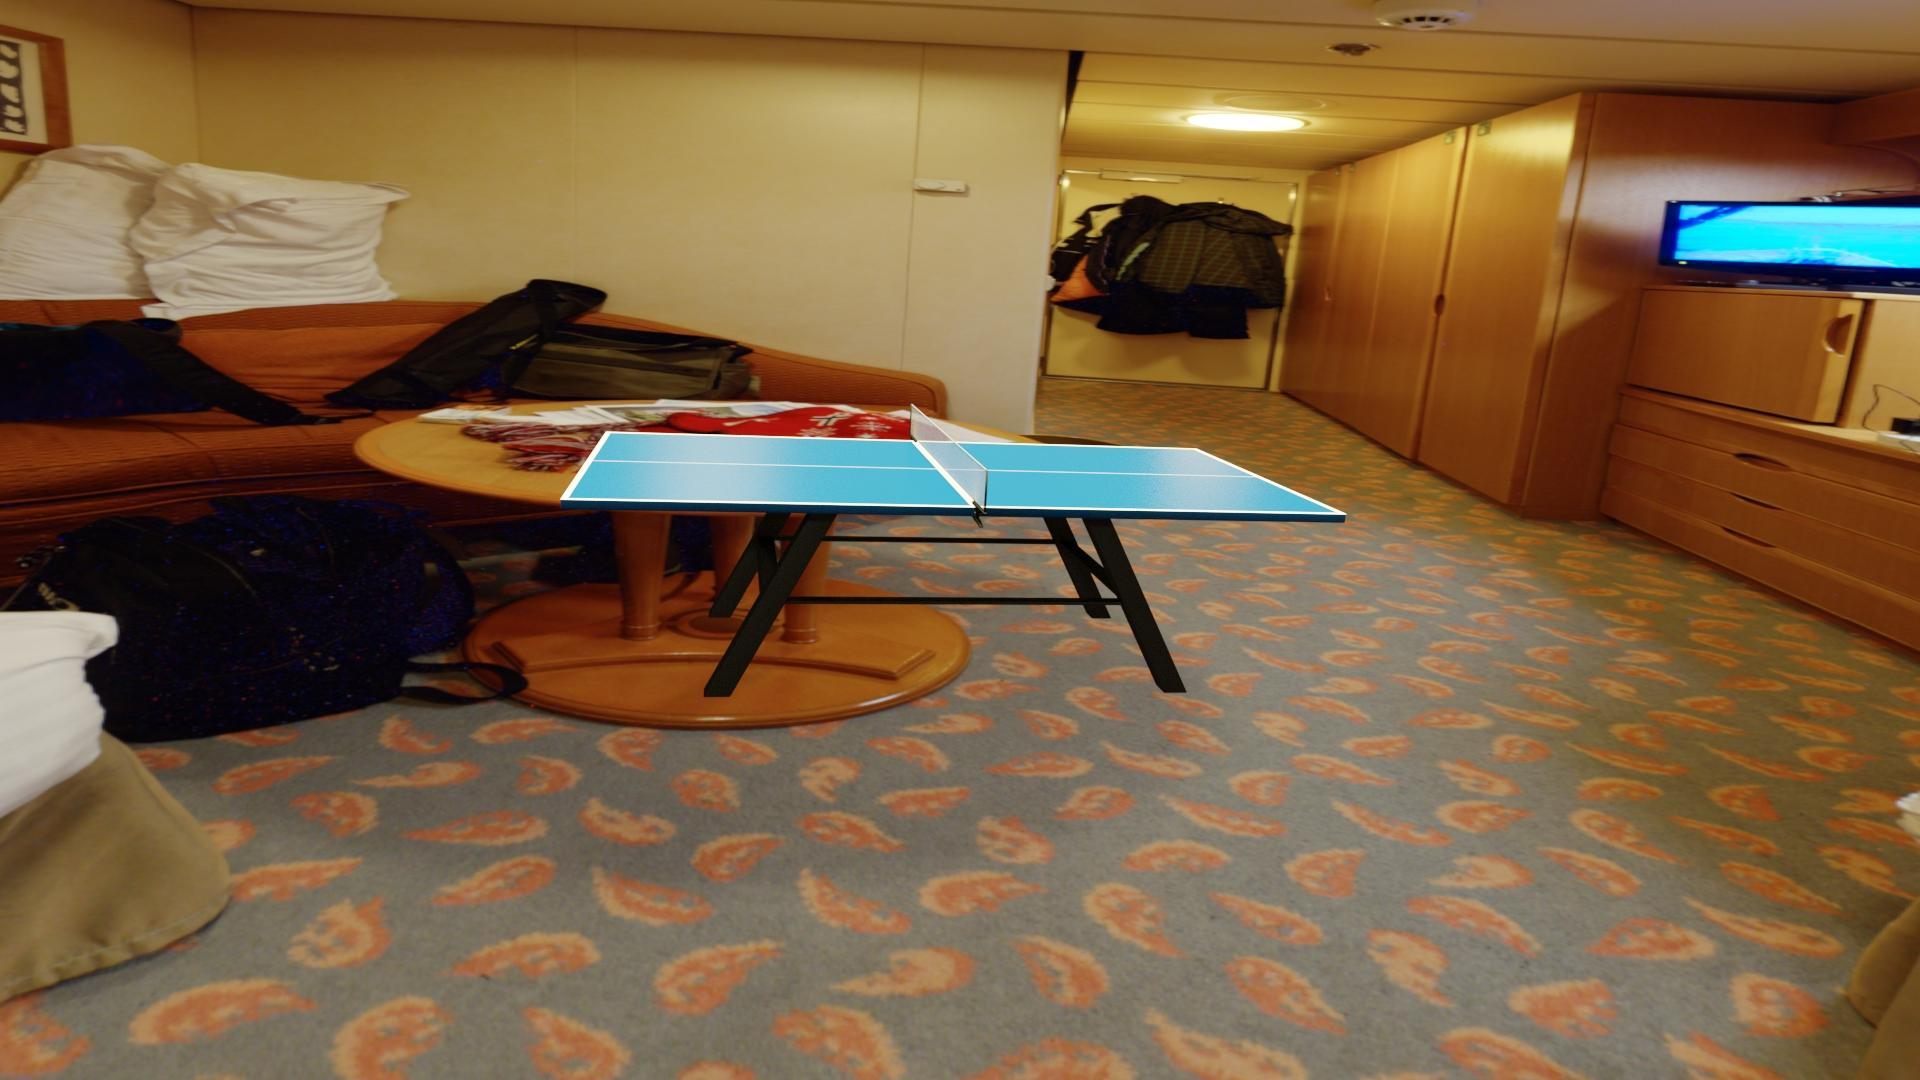table: (567, 433, 1338, 513)
